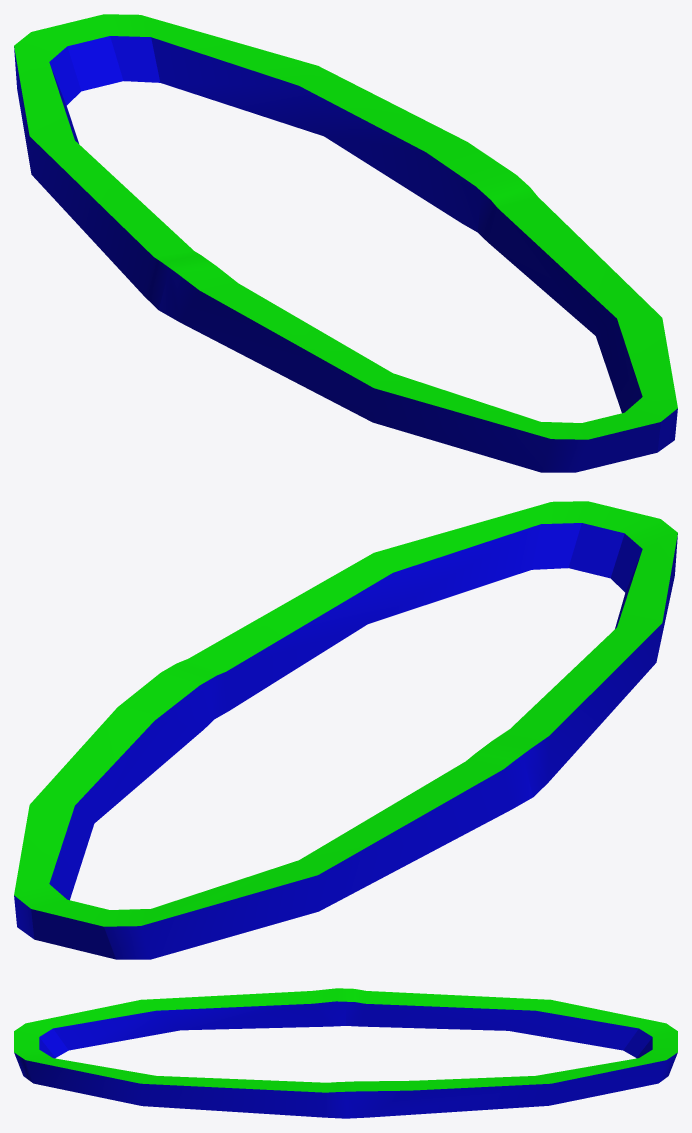
Rendered from Racetrack.fbx.
3 views of the same model, one above another, from view 1: azimuth 30°, elevation 25°; view 2: azimuth 150°, elevation 25°; view 3: azimuth 270°, elevation 25° (orthographic). The views are drawn at different scales.
Parts seen in each view (by area): view 1: Track; view 2: Track; view 3: Track.
Part boxes in pixels (x1,y1,x2,y2): Track: (14, 14, 677, 472); Track: (14, 501, 677, 959); Track: (14, 988, 677, 1118).
Bounding box in the file's own units: 522 × 54.48 × 1344.
